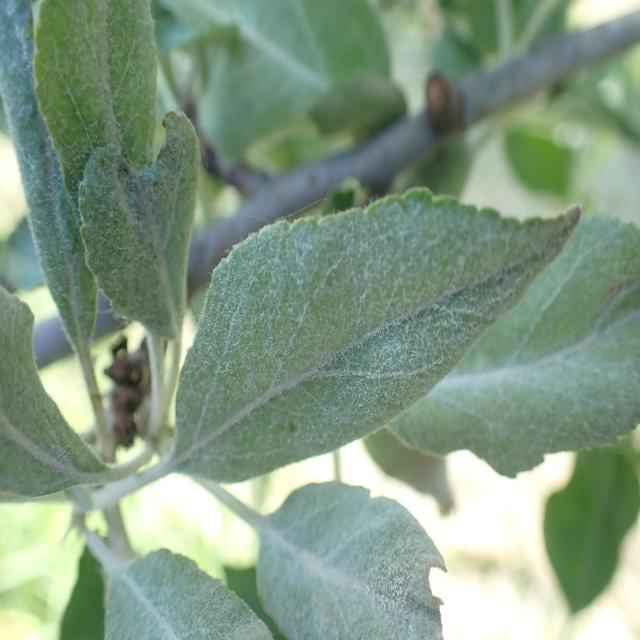Powdery_mildew: (150, 192, 579, 498), (408, 179, 640, 483), (0, 0, 112, 433), (88, 96, 221, 392), (250, 470, 463, 637), (0, 272, 127, 507), (75, 521, 277, 640), (31, 0, 157, 177)
